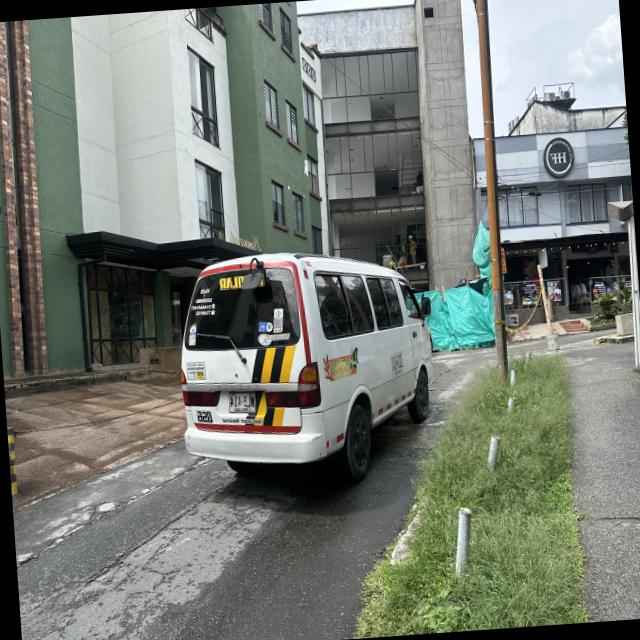number plate: (229, 391, 255, 413)
